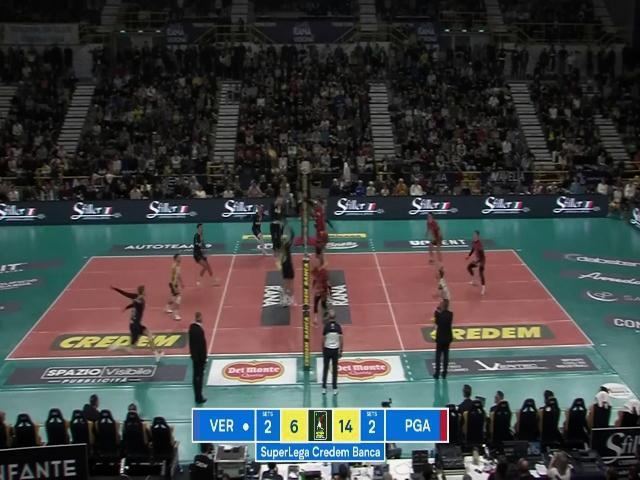volleyball court: (5, 247, 596, 359)
